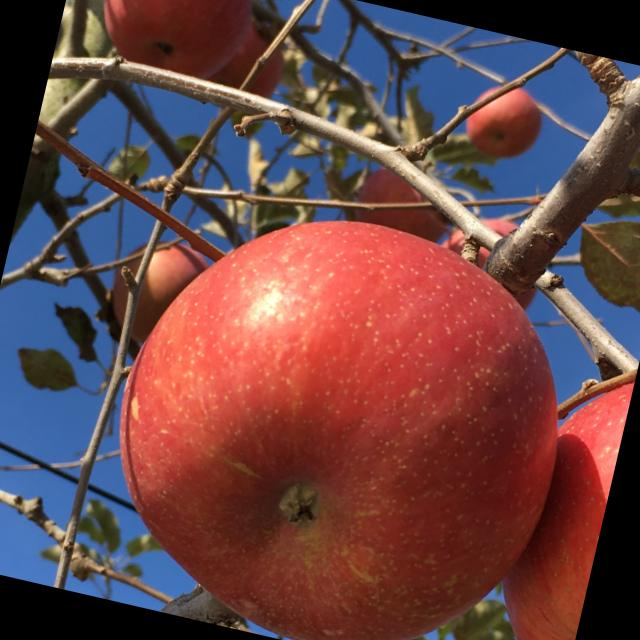fresh: (73, 169, 605, 640)
